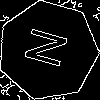N: (23, 25, 78, 73)
